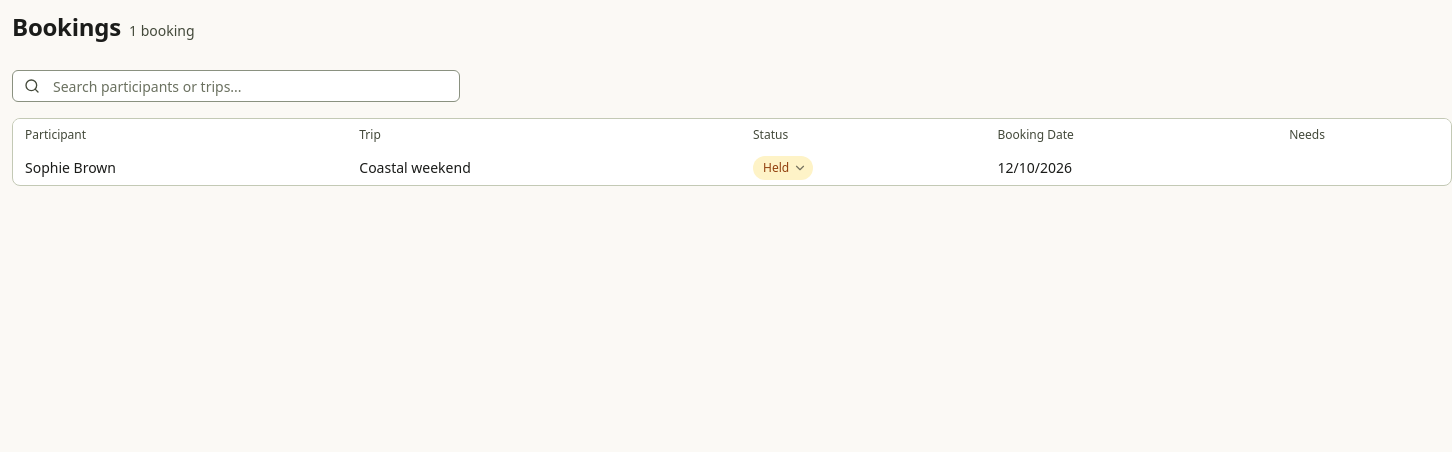
Test: BookingsPage — the budget warning of a booking just confirmed › can be dismissed
This screenshot has width=1452, height=452.
What coordinates should you click on to do the following:
click the button "Held"
I would click on:
 (783, 168)
Its box is top-left (753, 156), bottom-right (813, 180).
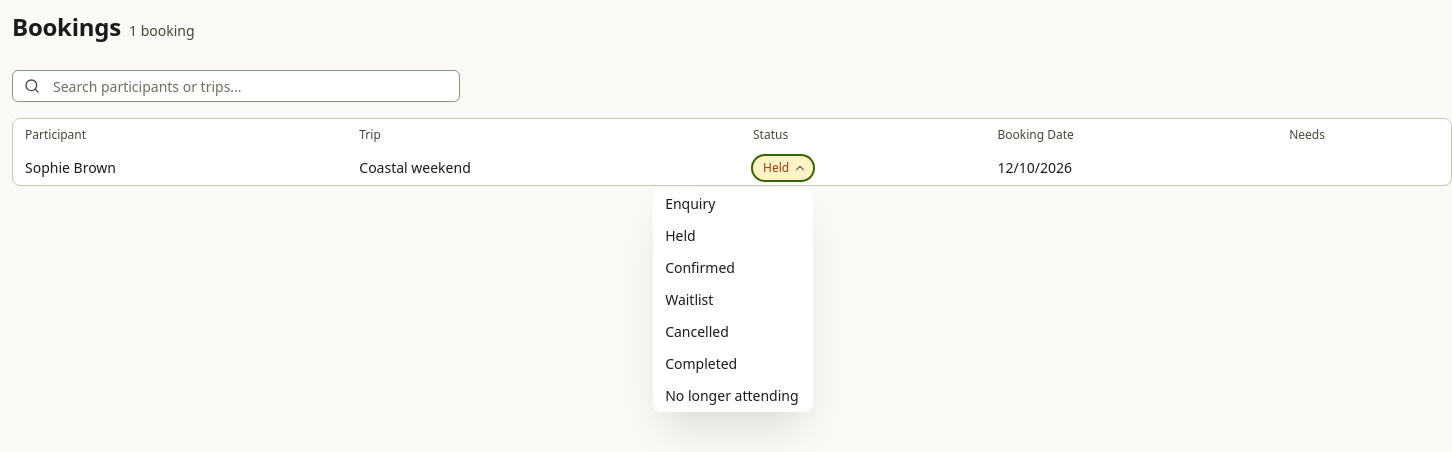
What coordinates should you click on to do the following:
click the option "Confirmed"
I would click on:
 (700, 268)
Its box is top-left (665, 258), bottom-right (735, 277).
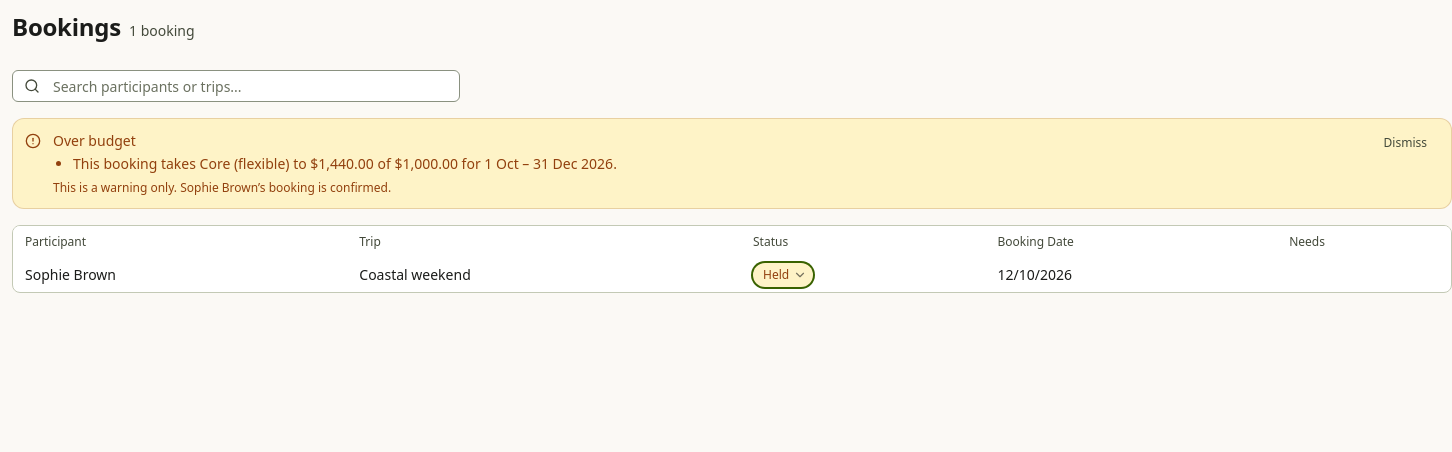
What coordinates should you click on to do the following:
click the button "Dismiss"
I would click on:
 (1405, 143)
Its box is top-left (1372, 131), bottom-right (1439, 155).
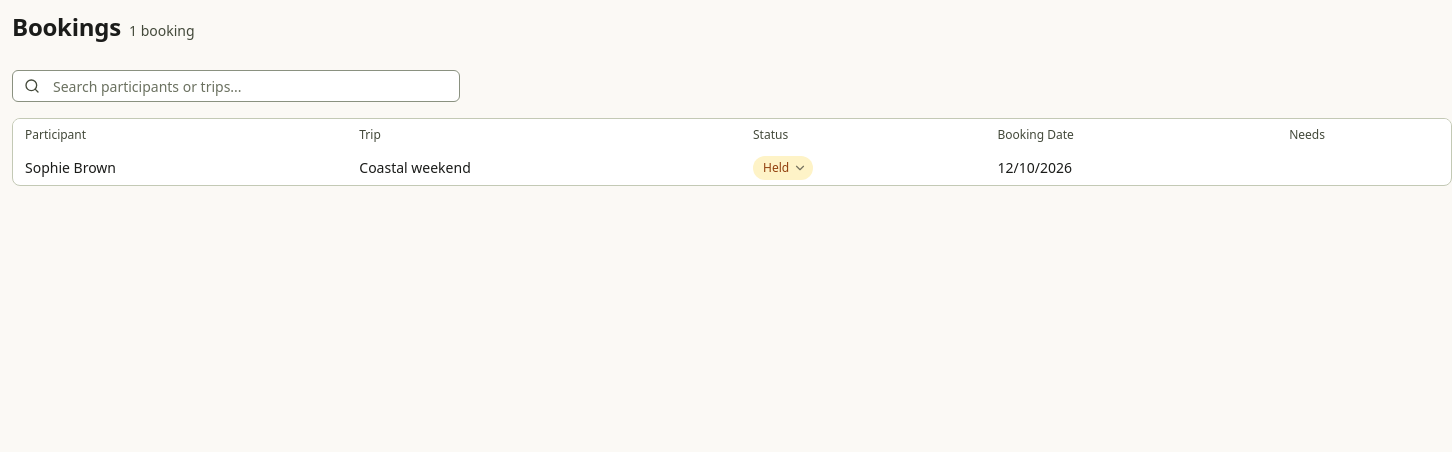
Expected: the text "Over budget" is gone
